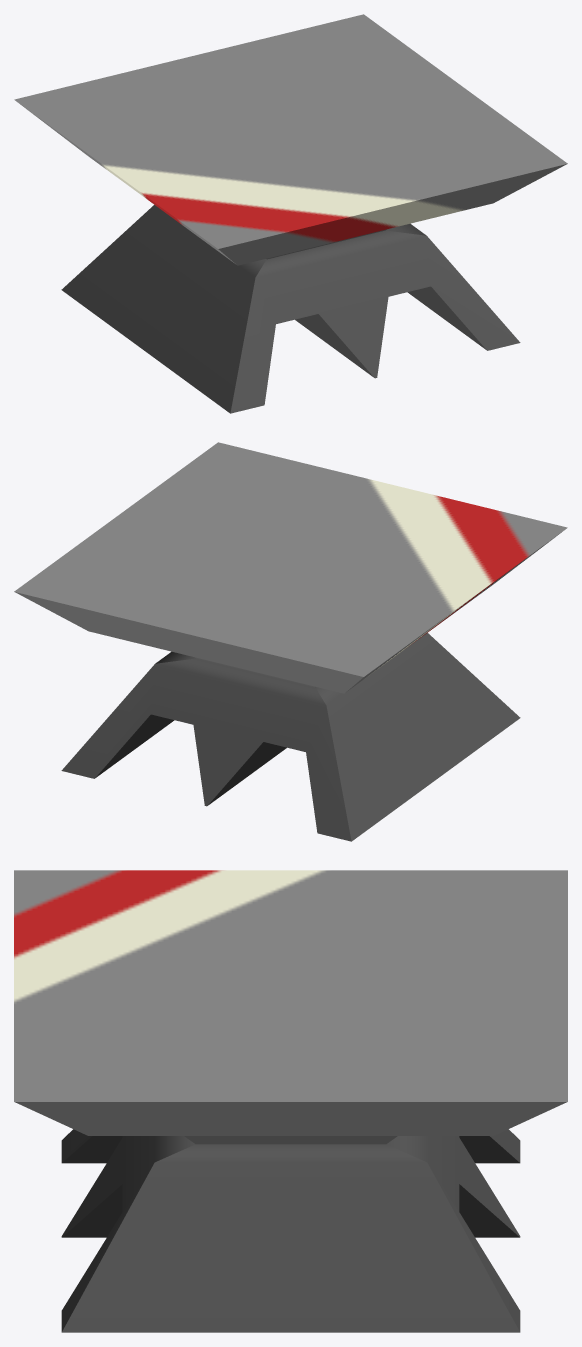
Rendered from Landing_Pad_03.fbx.
The picture shows the model from 3 angles, top to bottom: view 1: azimuth 30°, elevation 25°; view 2: azimuth 150°, elevation 25°; view 3: azimuth 270°, elevation 25°; orthographic projection. The views are drawn at different scales.
Parts seen in each view (by area): view 1: Pad_03, Pad_03_Base; view 2: Pad_03, Pad_03_Base; view 3: Pad_03, Pad_03_Base.
Boxes of the visible parts, x1,y1,x2,y2 form: Pad_03: [14, 14, 567, 265]; Pad_03_Base: [61, 205, 520, 413]; Pad_03: [14, 442, 567, 693]; Pad_03_Base: [61, 633, 520, 841]; Pad_03: [14, 870, 567, 1144]; Pad_03_Base: [61, 1129, 520, 1332].
Bounding box in the file's own units: 20.03 × 10.11 × 20.25.
